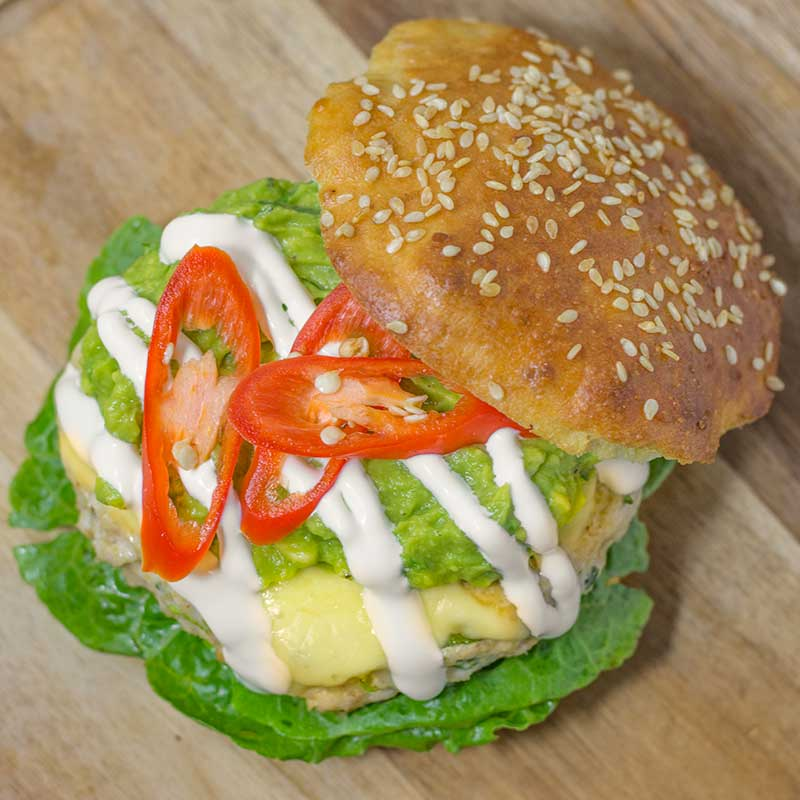hamburger_buns: (301, 14, 786, 487)
